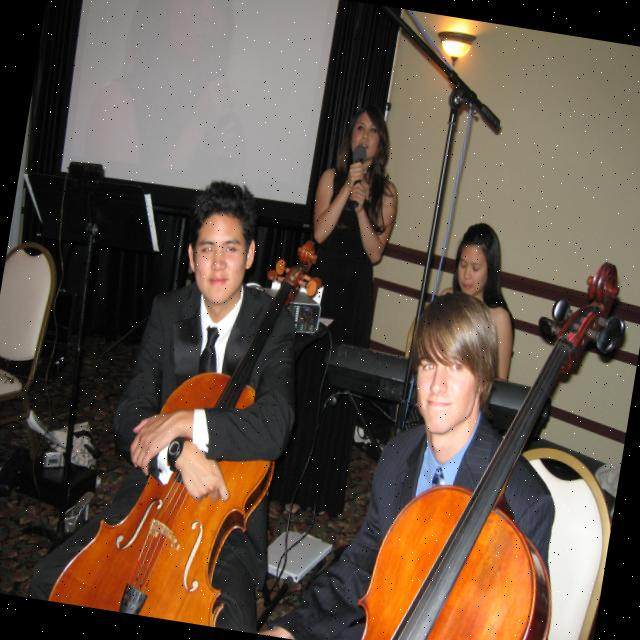cello: (44, 204, 327, 635), (348, 228, 639, 640)
